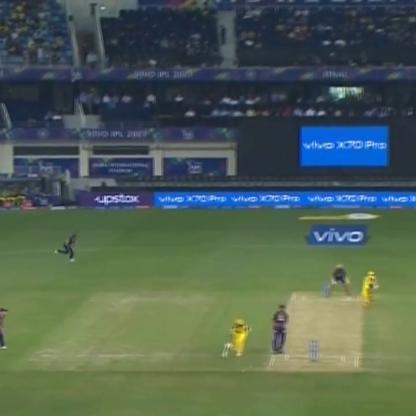pitch: (272, 286, 358, 372)
